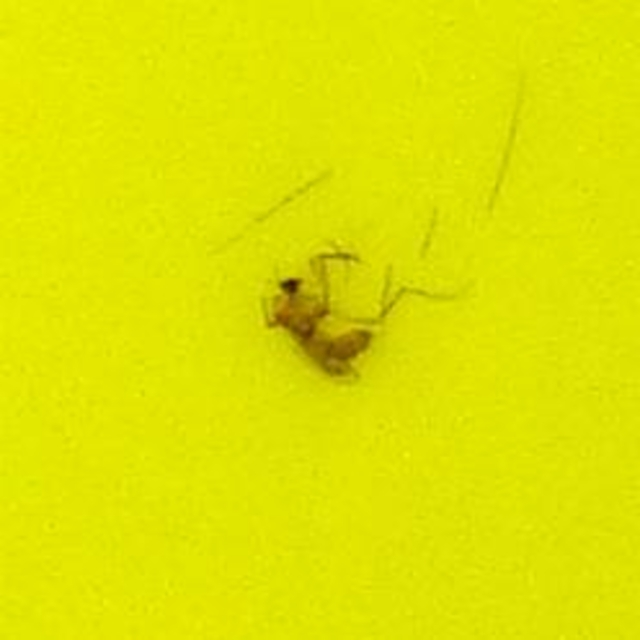Nematocera: (258, 248, 382, 392)
